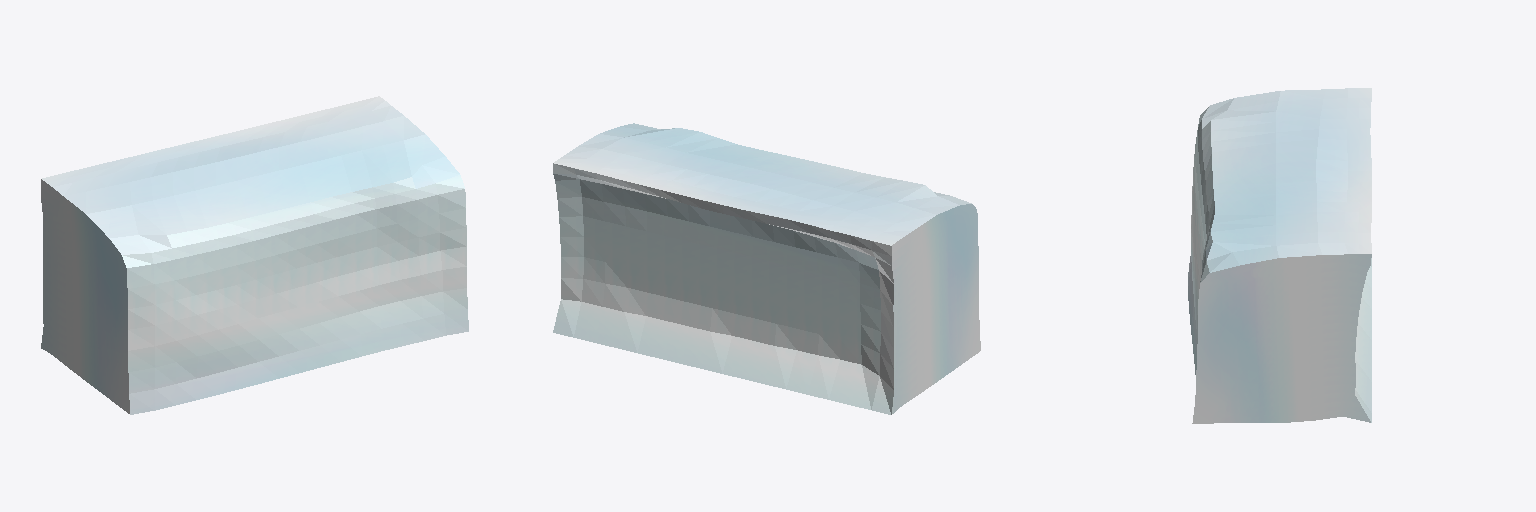
The picture shows the model from 3 angles: view 1: azimuth 30°, elevation 25°; view 2: azimuth 150°, elevation 25°; view 3: azimuth 270°, elevation 25°; orthographic projection.
Visible parts, largest first — view 1: 立方体; view 2: 立方体; view 3: 立方体.
Part boxes in pixels (left/top/right/bottom): 立方体: left=41, top=96, right=468, bottom=414; 立方体: left=553, top=123, right=980, bottom=414; 立方体: left=1188, top=88, right=1371, bottom=423.
Size of the model in its own units: 4.18 by 2.02 by 1.97.
1 materials, 1 textured.